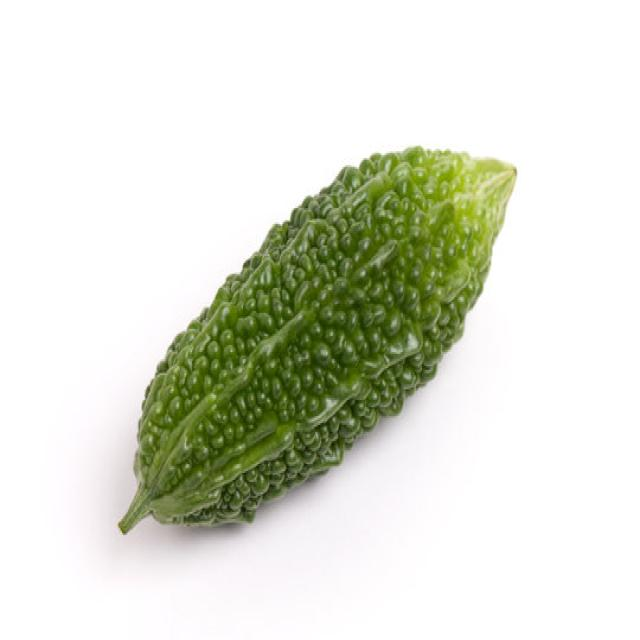Bitter_Gourd: (117, 142, 517, 535)
